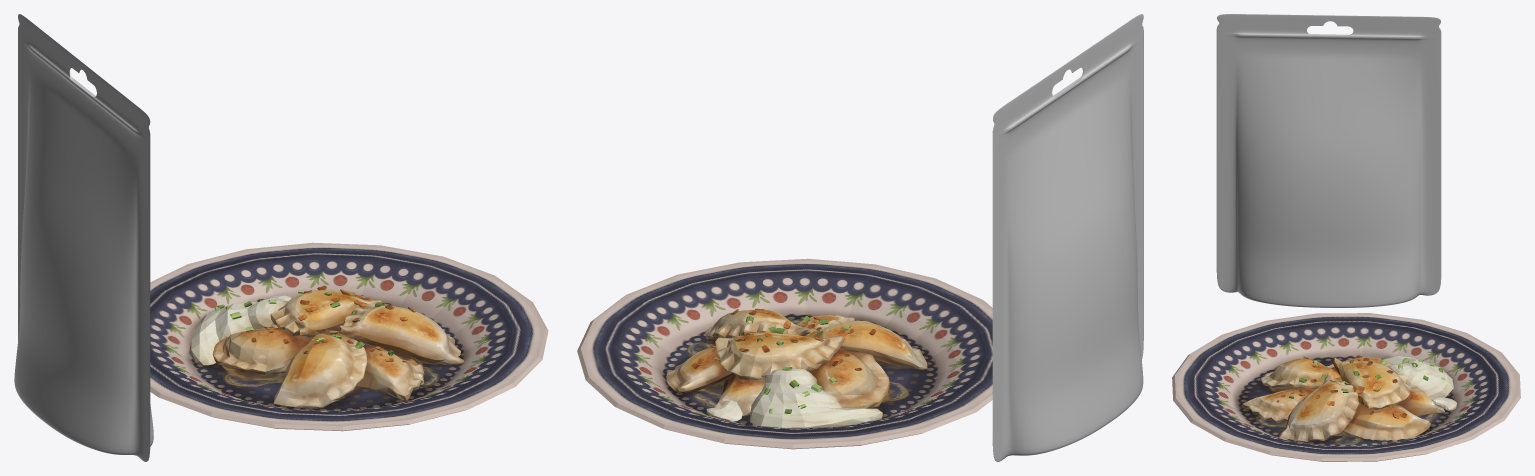
The model's file is Pierogi.fbx.
The picture shows the model from 3 angles, left to right: view 1: azimuth 30°, elevation 25°; view 2: azimuth 150°, elevation 25°; view 3: azimuth 270°, elevation 25°; orthographic projection. The views are drawn at different scales.
Visible parts, largest first — view 1: Opakowanie, Pierogi.001, Pierogi; view 2: Opakowanie, Pierogi.001, Pierogi; view 3: Opakowanie, Pierogi.001, Pierogi.
Part boxes in pixels (x1=…): Opakowanie: x1=14, y1=14, x2=153, y2=461; Pierogi.001: x1=150, y1=242, x2=548, y2=431; Pierogi: x1=189, y1=285, x2=464, y2=408; Opakowanie: x1=992, y1=14, x2=1143, y2=461; Pierogi.001: x1=577, y1=258, x2=992, y2=449; Pierogi: x1=666, y1=308, x2=927, y2=428; Opakowanie: x1=1216, y1=14, x2=1441, y2=307; Pierogi.001: x1=1172, y1=313, x2=1520, y2=461; Pierogi: x1=1241, y1=355, x2=1456, y2=442.
Bounding box in the file's own units: 571 × 421 × 447.
